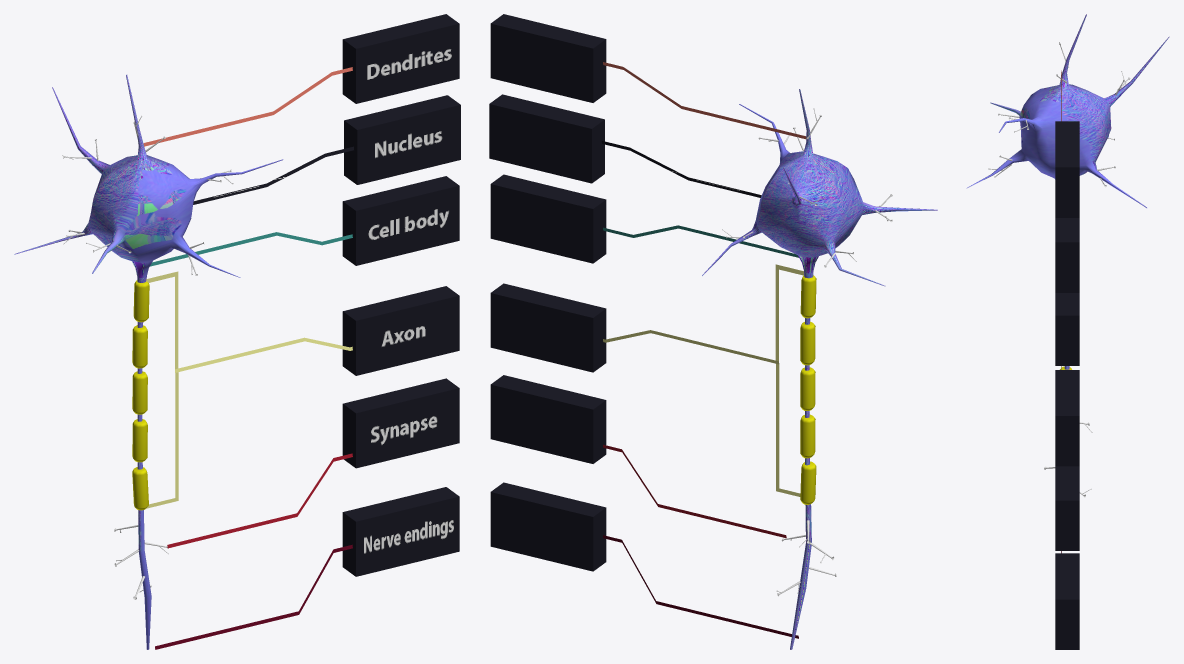
The model's file is nurve cell.fbx.
3 renders of one model, left to right at view 1: azimuth 30°, elevation 25°; view 2: azimuth 150°, elevation 25°; view 3: azimuth 270°, elevation 25°, orthographic. The views are drawn at different scales.
Parts seen in each view (by area): view 1: Neuron_C1, axon, dendrits, cell_body, nurve_endings, pCube6, nucleus, schwaan_cell4, pPlane4, pPlane3, pPlane6, pPlane1 (+2 smaller); view 2: Neuron_C1, nurve_endings, axon, dendrits, cell_body, pCube6, nucleus, schwaan_cell4, pPlane4, pPlane3, pPlane6, pPlane1 (+1 smaller); view 3: Neuron_C1, dendrits, axon, nurve_endings, pCube6, nucleus, cell_body.
Part boxes in pixels (bbox=[...]): Neuron_C1: bbox=[14, 74, 283, 649]; axon: bbox=[342, 286, 459, 375]; dendrits: bbox=[342, 14, 459, 103]; cell_body: bbox=[342, 176, 459, 265]; nurve_endings: bbox=[342, 487, 459, 576]; pCube6: bbox=[342, 378, 459, 468]; nucleus: bbox=[344, 95, 460, 184]; schwaan_cell4: bbox=[132, 280, 149, 510]; pPlane4: bbox=[145, 271, 352, 508]; pPlane3: bbox=[143, 67, 352, 146]; pPlane6: bbox=[155, 544, 352, 649]; pPlane1: bbox=[150, 232, 352, 266]; Neuron_C1: bbox=[702, 89, 937, 649]; nurve_endings: bbox=[490, 482, 606, 571]; axon: bbox=[490, 283, 606, 372]; dendrits: bbox=[490, 14, 606, 102]; cell_body: bbox=[490, 174, 606, 263]; pCube6: bbox=[490, 375, 606, 463]; nucleus: bbox=[489, 94, 604, 183]; schwaan_cell4: bbox=[800, 275, 816, 504]; pPlane4: bbox=[603, 264, 803, 496]; pPlane3: bbox=[603, 62, 806, 139]; pPlane6: bbox=[603, 535, 798, 638]; pPlane1: bbox=[603, 225, 798, 257]; Neuron_C1: bbox=[966, 14, 1169, 497]; dendrits: bbox=[1055, 121, 1079, 217]; axon: bbox=[1055, 370, 1079, 466]; nurve_endings: bbox=[1055, 553, 1079, 649]; pCube6: bbox=[1055, 466, 1079, 550]; nucleus: bbox=[1055, 218, 1079, 292]; cell_body: bbox=[1055, 293, 1079, 365].
Bounding box in the file's own units: 155 × 203 × 71.41.
Materials: 4 (2 with a texture image).
